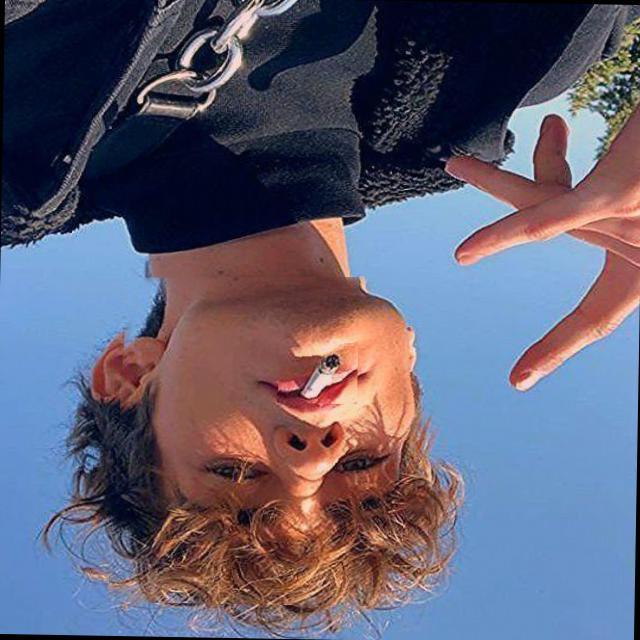cigarette: (278, 341, 358, 405)
